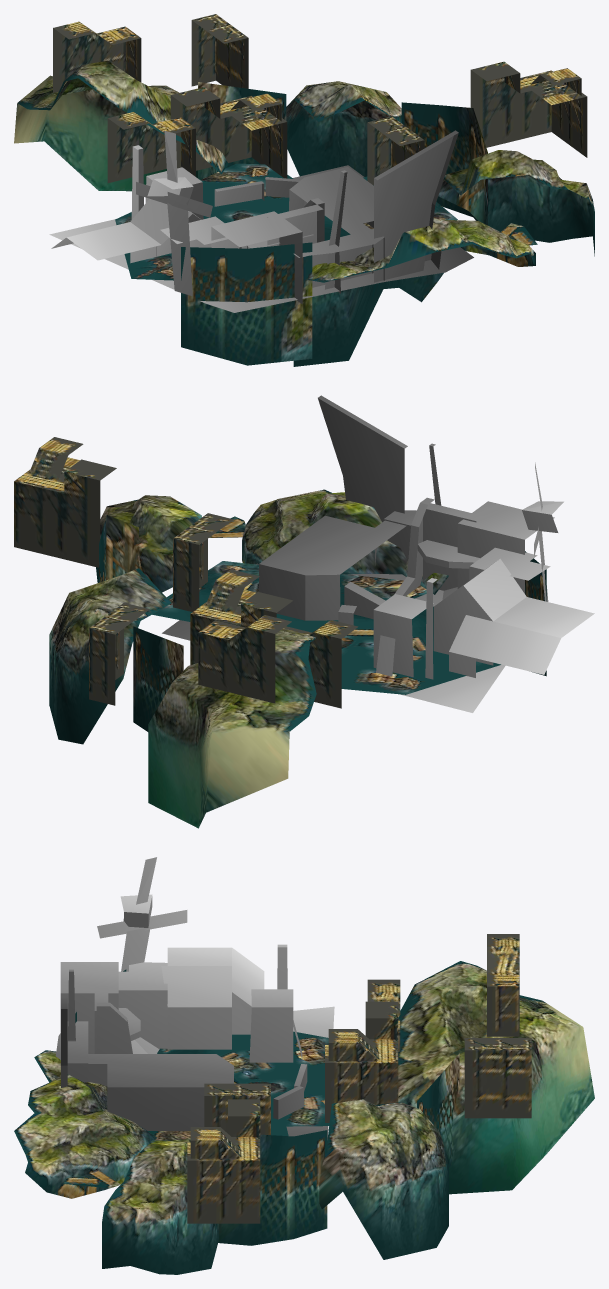
The model's file is T_TropedoFence_01.fbx.
The picture shows the model from 3 angles, top to bottom: view 1: azimuth 30°, elevation 25°; view 2: azimuth 150°, elevation 25°; view 3: azimuth 270°, elevation 25°; orthographic projection. The views are drawn at different scales.
Parts seen in each view (by area): view 1: T_TropedoFence_01, FX_BuildUnLock_Glow, T_BuildForm_01 (×2), T_TropedoFence_01_Lock, T_BuildForm_03 (1), T_BuildForm_03, T_BuildForm_02 (2), T_BuildForm_02 (4); view 2: T_TropedoFence_01, FX_BuildUnLock_Glow, T_BuildForm_01 (×2), T_TropedoFence_01_Lock, T_BuildForm_03, T_BuildForm_02 (2), T_BuildForm_02 (4), T_BuildForm_03 (1); view 3: T_TropedoFence_01, FX_BuildUnLock_Glow, T_BuildForm_01 (×2), T_TropedoFence_01_Lock, T_BuildForm_02 (2), T_BuildForm_03, T_BuildForm_02 (4), T_BuildForm_03 (1).
Part boxes in pixels (x1,y1,x2,y2): T_TropedoFence_01: (14, 60, 594, 366); FX_BuildUnLock_Glow: (49, 130, 473, 312); T_BuildForm_01 (×2): (170, 61, 587, 178); T_TropedoFence_01_Lock: (115, 163, 457, 280); T_BuildForm_03 (1): (107, 112, 195, 182); T_BuildForm_03: (53, 21, 141, 92); T_BuildForm_02 (2): (191, 14, 248, 88); T_BuildForm_02 (4): (367, 116, 424, 185); T_TropedoFence_01: (49, 489, 546, 828); FX_BuildUnLock_Glow: (162, 395, 594, 712); T_BuildForm_01 (×2): (14, 437, 292, 664); T_TropedoFence_01_Lock: (152, 561, 500, 694); T_BuildForm_03: (198, 615, 291, 703); T_BuildForm_02 (2): (89, 603, 149, 705); T_BuildForm_02 (4): (173, 513, 233, 611); T_BuildForm_03 (1): (282, 620, 358, 708); T_TropedoFence_01: (14, 961, 594, 1274); FX_BuildUnLock_Glow: (55, 857, 334, 1139); T_BuildForm_01 (×2): (187, 1001, 398, 1223); T_TropedoFence_01_Lock: (148, 1031, 329, 1140); T_BuildForm_02 (2): (464, 1038, 531, 1118); T_BuildForm_03: (487, 934, 519, 1036); T_BuildForm_02 (4): (204, 1083, 270, 1134); T_BuildForm_03 (1): (367, 979, 400, 1051).
Size of the model in its own units: 20.41 by 9.78 by 20.12.
4 materials, 4 textured.
